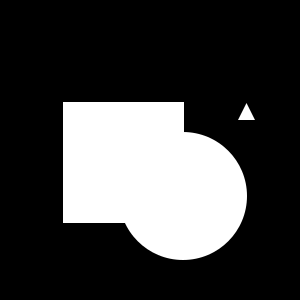circle: (63, 102, 184, 223)
rectangle: (119, 132, 247, 260)
triangle: (238, 103, 255, 120)
